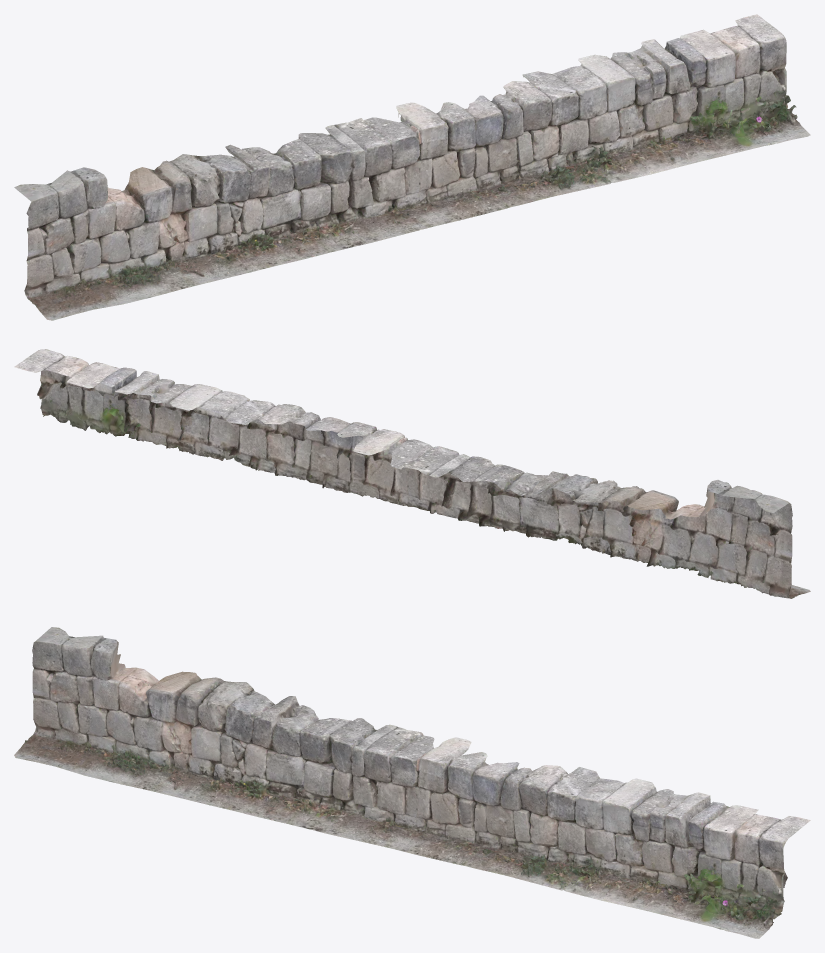
Rendered from wall1.glb.
3 renders of one model, top to bottom at view 1: azimuth 30°, elevation 25°; view 2: azimuth 150°, elevation 25°; view 3: azimuth 330°, elevation 25°, orthographic. The views are drawn at different scales.
Visible parts, largest first — view 1: favi_murikII_favi_murikII_u1_v1_0; view 2: favi_murikII_favi_murikII_u1_v1_0; view 3: favi_murikII_favi_murikII_u1_v1_0.
Boxes of the visible parts, x1,y1,x2,y2 form: favi_murikII_favi_murikII_u1_v1_0: (14, 14, 810, 320); favi_murikII_favi_murikII_u1_v1_0: (14, 349, 810, 598); favi_murikII_favi_murikII_u1_v1_0: (14, 627, 810, 938).
Size of the model in its own units: 4.64 by 0.6485 by 0.57.
Materials: 1 (1 with a texture image).
